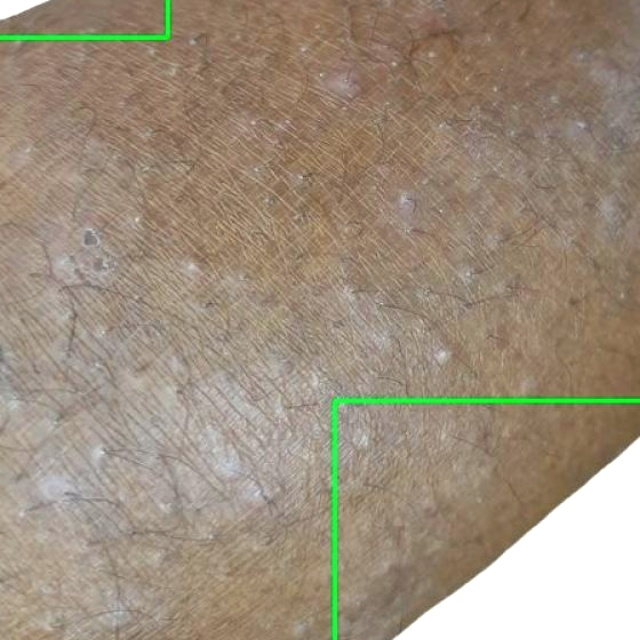Scabies: (335, 400, 639, 639)
